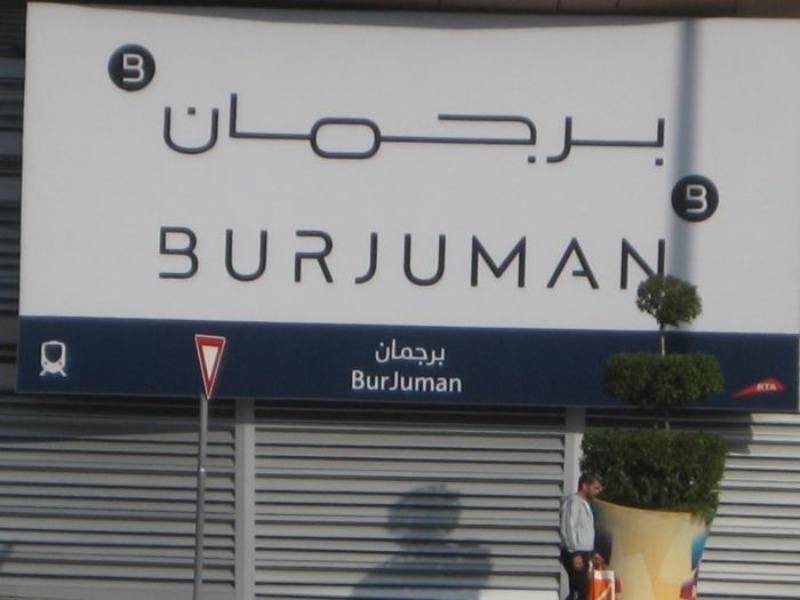text: (177, 87, 192, 170), (193, 87, 208, 170), (209, 87, 224, 170), (225, 87, 240, 170), (241, 87, 256, 170), (257, 87, 272, 170), (273, 87, 288, 170), (289, 87, 304, 170), (305, 87, 320, 170), (321, 87, 336, 170), (337, 87, 352, 170), (353, 87, 368, 170), (369, 87, 384, 170), (385, 87, 400, 170), (401, 87, 416, 170), (417, 87, 432, 170), (433, 87, 448, 170), (449, 87, 464, 170), (465, 87, 480, 170), (481, 87, 496, 170), (497, 87, 512, 170), (513, 87, 528, 170), (529, 87, 544, 170), (545, 87, 560, 170), (561, 87, 576, 170), (577, 87, 592, 170), (593, 87, 608, 170), (609, 87, 624, 170), (625, 87, 640, 170), (641, 87, 656, 170), (162, 87, 176, 170), (161, 223, 176, 291), (177, 223, 192, 291), (193, 223, 208, 291), (209, 223, 224, 291), (225, 223, 240, 291), (241, 223, 256, 291), (257, 223, 272, 291), (273, 223, 288, 291), (289, 223, 304, 291), (305, 223, 320, 291), (321, 223, 336, 291), (337, 223, 352, 291), (353, 223, 368, 291), (369, 223, 384, 291), (385, 223, 400, 291), (401, 223, 416, 291), (417, 223, 432, 291), (433, 223, 448, 291), (449, 223, 464, 291), (465, 223, 480, 291), (481, 223, 496, 291), (497, 223, 512, 291), (513, 223, 528, 291), (529, 223, 544, 291), (545, 223, 560, 291), (561, 223, 576, 291), (577, 223, 592, 291), (593, 223, 608, 291), (609, 223, 624, 291), (625, 223, 640, 291), (641, 223, 656, 291), (657, 87, 668, 170), (657, 223, 670, 291), (129, 49, 144, 86), (689, 181, 704, 218), (385, 338, 400, 367), (401, 338, 416, 367), (417, 338, 432, 367), (433, 338, 446, 367), (118, 49, 128, 86), (353, 369, 368, 393), (369, 369, 384, 393), (385, 369, 400, 393), (401, 369, 416, 393), (417, 369, 432, 393), (433, 369, 448, 393), (449, 369, 464, 393), (373, 338, 384, 367), (681, 181, 688, 218), (705, 181, 711, 218), (757, 382, 768, 394), (769, 382, 779, 394), (145, 49, 147, 86), (159, 223, 160, 291)
